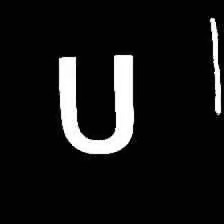LTR_U: (51, 46, 140, 158)
